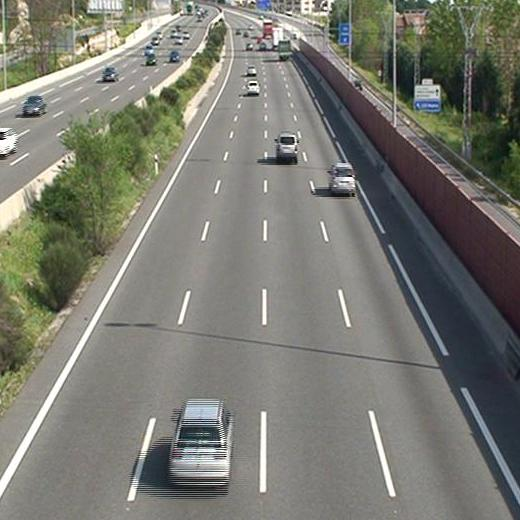car: (168, 401, 231, 487), (330, 163, 355, 192), (276, 133, 298, 156), (246, 80, 260, 95), (247, 65, 257, 77)
small-truck: (278, 40, 292, 59)
truck: (272, 27, 284, 47), (263, 21, 274, 38)
